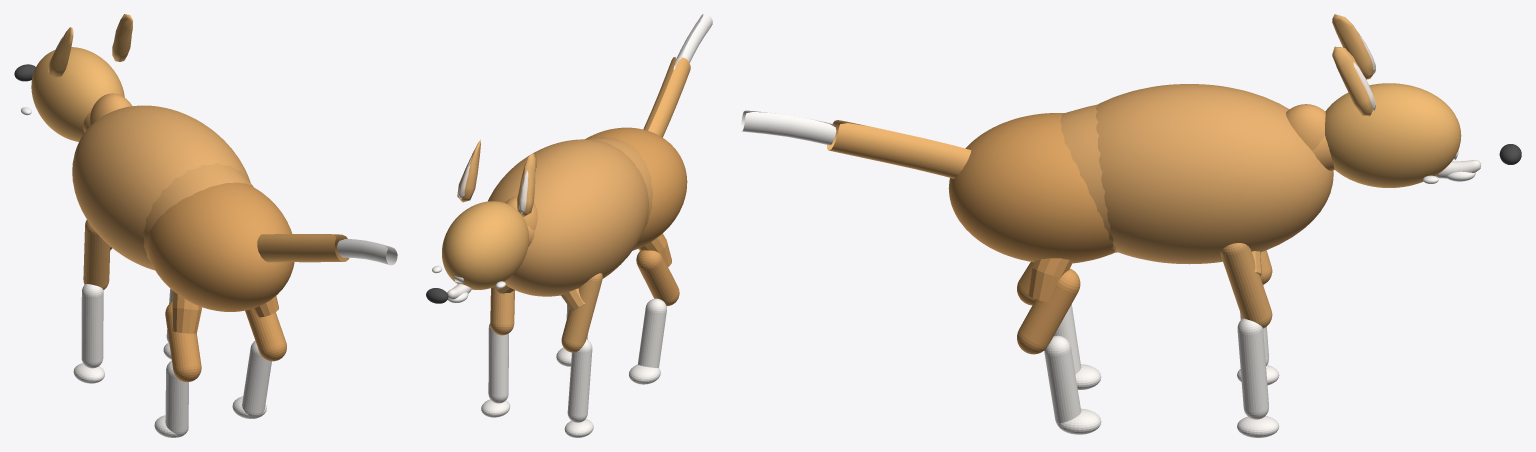
File: fox.glb
3 views of the same model, side by side, from view 1: azimuth 30°, elevation 25°; view 2: azimuth 150°, elevation 25°; view 3: azimuth 270°, elevation 25° (orthographic). The views are drawn at different scales.
Parts seen in each view (by area): view 1: chest, hips, head, tail_base, torso_blend, front_neg__lower, rear_neg__thigh, rear_pos__shin, front_neg__upper, rear_neg__shin, rear_pos__thigh, tail_tip (+5 smaller); view 2: chest, head, hips, tail_base, front_neg__upper, front_neg__lower, rear_neg__shin, rear_neg__thigh, front_pos__lower, front_pos__upper, torso_blend, tail_tip (+9 smaller); view 3: chest, hips, head, tail_base, torso_blend, rear_pos__thigh, front_pos__lower, front_pos__upper, rear_pos__shin, tail_tip, rear_pos__hip_joint, neck (+3 smaller).
Boxes of the visible parts, x1,y1,x2,y2 form: chest: (72, 105, 250, 270); hips: (146, 182, 294, 311); head: (31, 47, 124, 141); tail_base: (257, 234, 349, 262); torso_blend: (143, 163, 253, 259); front_neg__lower: (81, 284, 103, 368); rear_neg__thigh: (165, 301, 201, 382); rear_pos__shin: (242, 341, 271, 418); front_neg__upper: (83, 220, 110, 289); rear_neg__shin: (165, 360, 188, 437); rear_pos__thigh: (245, 309, 286, 361); tail_tip: (337, 239, 397, 265); chest: (487, 139, 648, 296); head: (442, 201, 528, 289); hips: (585, 127, 687, 250); tail_base: (643, 57, 690, 137); front_neg__upper: (561, 273, 602, 352); front_neg__lower: (567, 339, 592, 422); rear_neg__shin: (637, 298, 666, 367); rear_neg__thigh: (636, 250, 679, 306); front_pos__lower: (488, 323, 508, 403); front_pos__upper: (490, 287, 514, 335); torso_blend: (588, 137, 653, 228); tail_tip: (675, 14, 712, 66); chest: (1096, 84, 1333, 264); hips: (948, 113, 1114, 263); head: (1325, 83, 1461, 187); tail_base: (827, 120, 971, 178); torso_blend: (1060, 104, 1117, 252); rear_pos__thigh: (1017, 268, 1080, 354); front_pos__lower: (1237, 318, 1268, 419); front_pos__upper: (1220, 243, 1272, 328); rear_pos__shin: (1044, 335, 1081, 424); tail_tip: (741, 110, 836, 145); rear_pos__hip_joint: (1028, 258, 1072, 302); neck: (1286, 104, 1325, 150).
Bounding box in the file's own units: 2.28 × 5.24 × 9.76.
